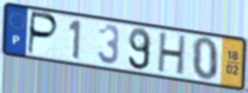0: (188, 35, 220, 83)
1: (68, 18, 83, 61)
3: (96, 23, 121, 67)
9: (126, 26, 153, 73)
H: (156, 31, 188, 78)
P: (26, 10, 60, 57)
